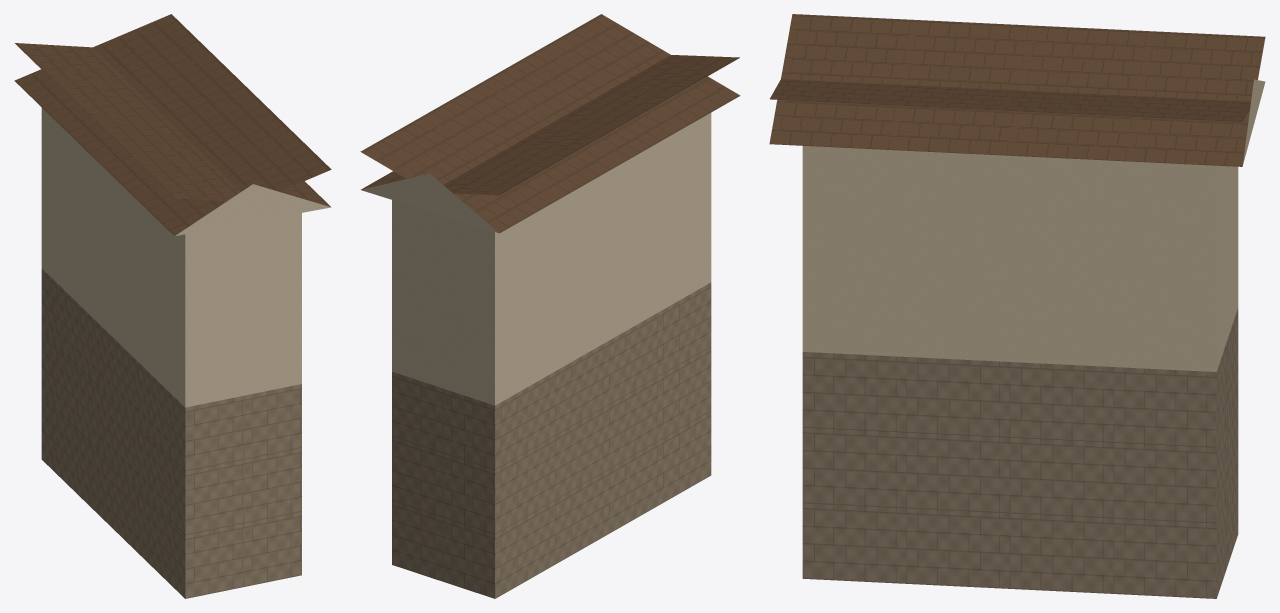
File: bld_c8_25_414.gltf
The picture shows the model from 3 angles, left to right: view 1: azimuth 30°, elevation 25°; view 2: azimuth 150°, elevation 25°; view 3: azimuth 270°, elevation 25°; orthographic projection. The views are drawn at different scales.
Parts seen in each view (by area): view 1: bld_c8_25_414; view 2: bld_c8_25_414; view 3: bld_c8_25_414.
Part boxes in pixels (x1,y1,x2,y2): bld_c8_25_414: [14, 14, 331, 598]; bld_c8_25_414: [360, 14, 740, 598]; bld_c8_25_414: [769, 14, 1265, 598].
Bounding box in the file's own units: 5.17 × 10.9 × 10.03.
4 materials, 4 textured.
